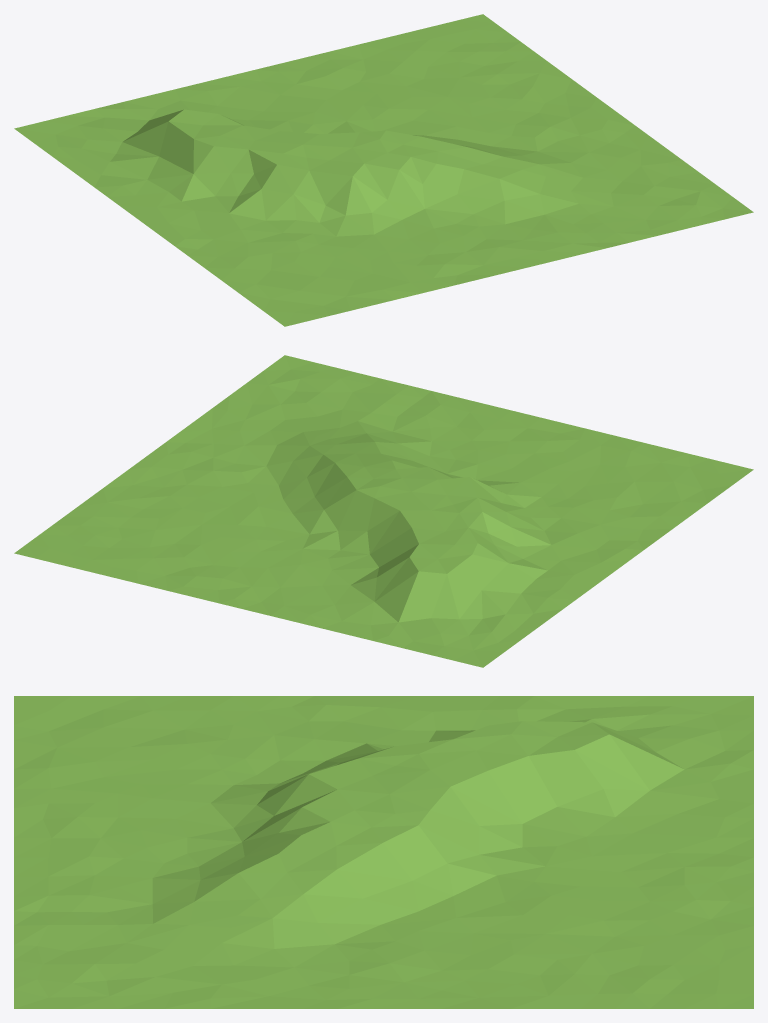
File: MT_Terrain_M_d_03.fbx
3 renders of one model, top to bottom at view 1: azimuth 30°, elevation 25°; view 2: azimuth 150°, elevation 25°; view 3: azimuth 270°, elevation 25°, orthographic. The views are drawn at different scales.
Parts seen in each view (by area): view 1: MT_Terrain_M_d_03; view 2: MT_Terrain_M_d_03; view 3: MT_Terrain_M_d_03.
Boxes of the visible parts, left/top/right/bottom form: MT_Terrain_M_d_03: left=14, top=14, right=753, bottom=326; MT_Terrain_M_d_03: left=14, top=355, right=753, bottom=667; MT_Terrain_M_d_03: left=14, top=696, right=753, bottom=1008.
Size of the model in its own units: 5000 by 308 by 5000.
